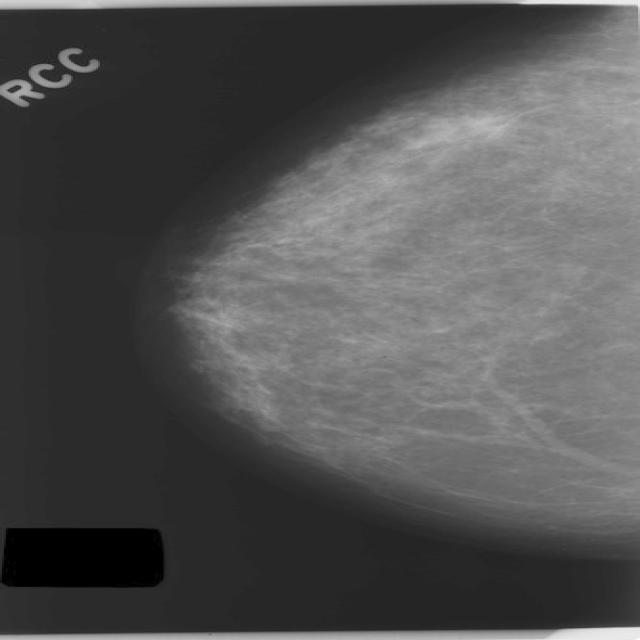tumour: (408, 112, 513, 146)
